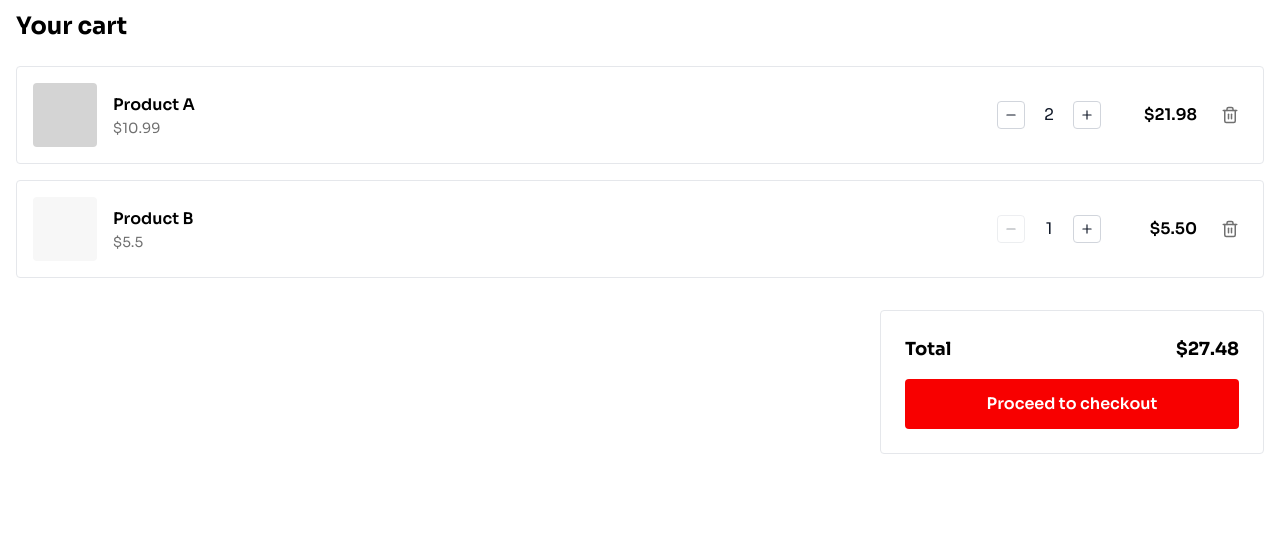
Scenario: Cart page › en cas d'erreur générique (non 422), affiche un message générique
Click the button "Proceed to checkout" at (1072, 404), box [905,379,1239,429]
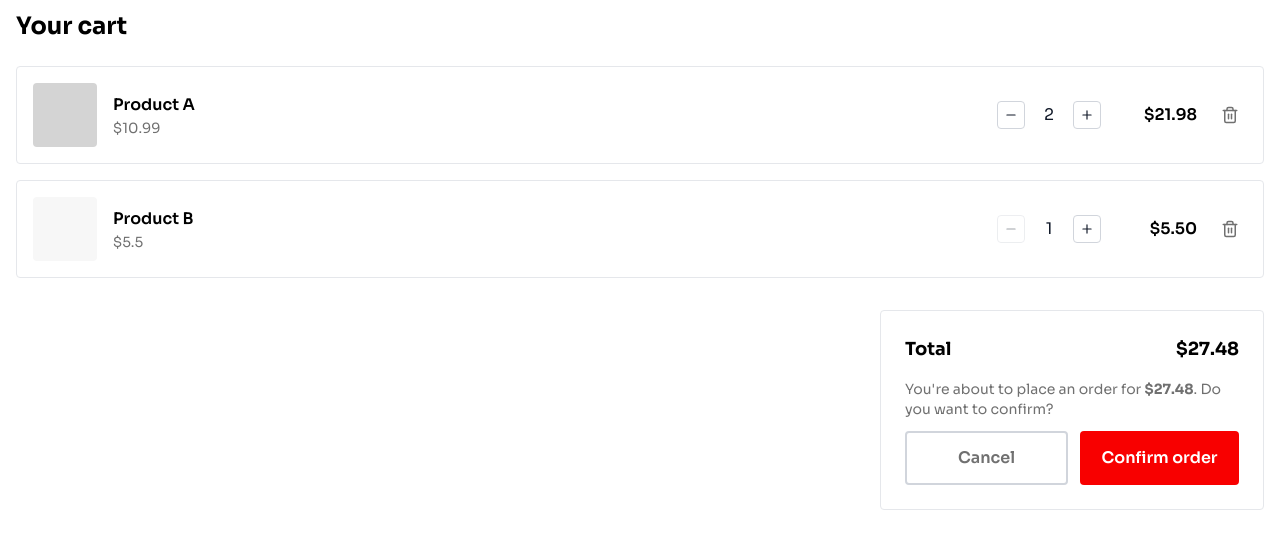
Click the button "Confirm order" at (1160, 458), box [1080,431,1239,485]
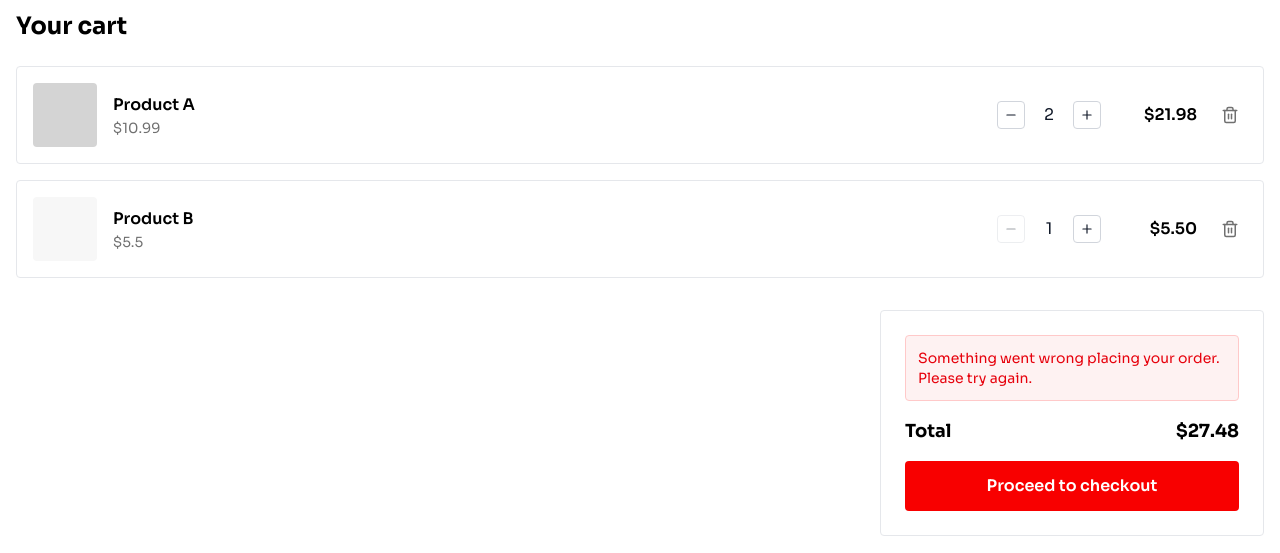
Check: the text "Something went wrong placing your order. Please try again." is shown, box [905,335,1239,401]
Check: the text "You're about to place an order" is gone
